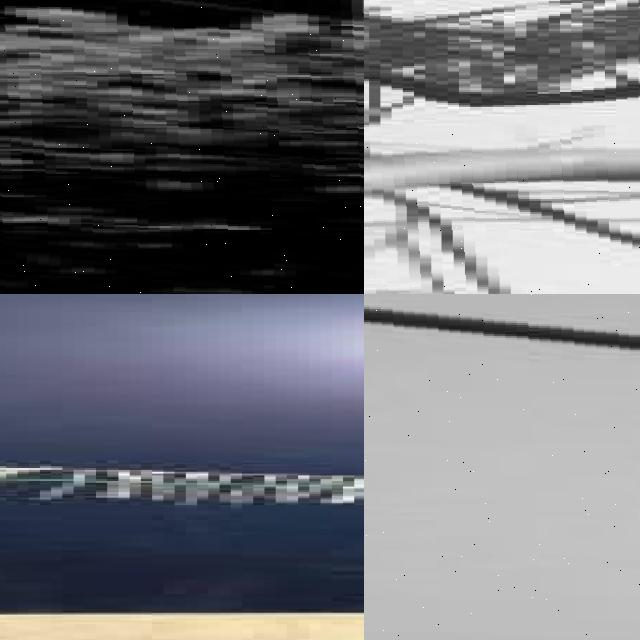street light: (0, 0, 364, 294), (364, 294, 640, 640), (364, 125, 640, 294)
